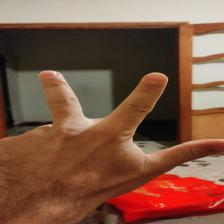three: (10, 67, 220, 193)
